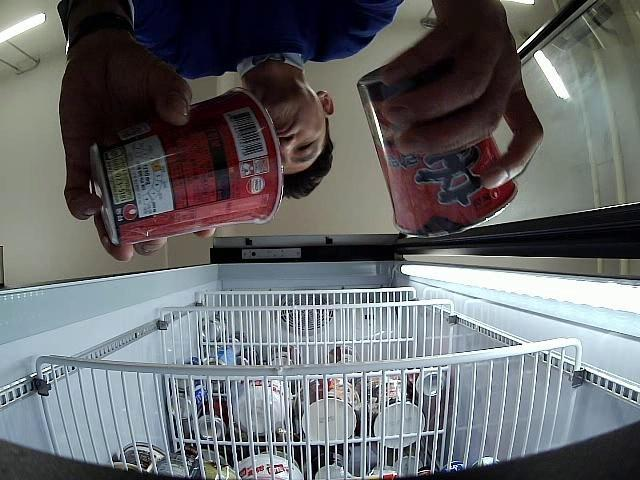02_shinRamen_S: (90, 88, 282, 247), (357, 64, 518, 239)
